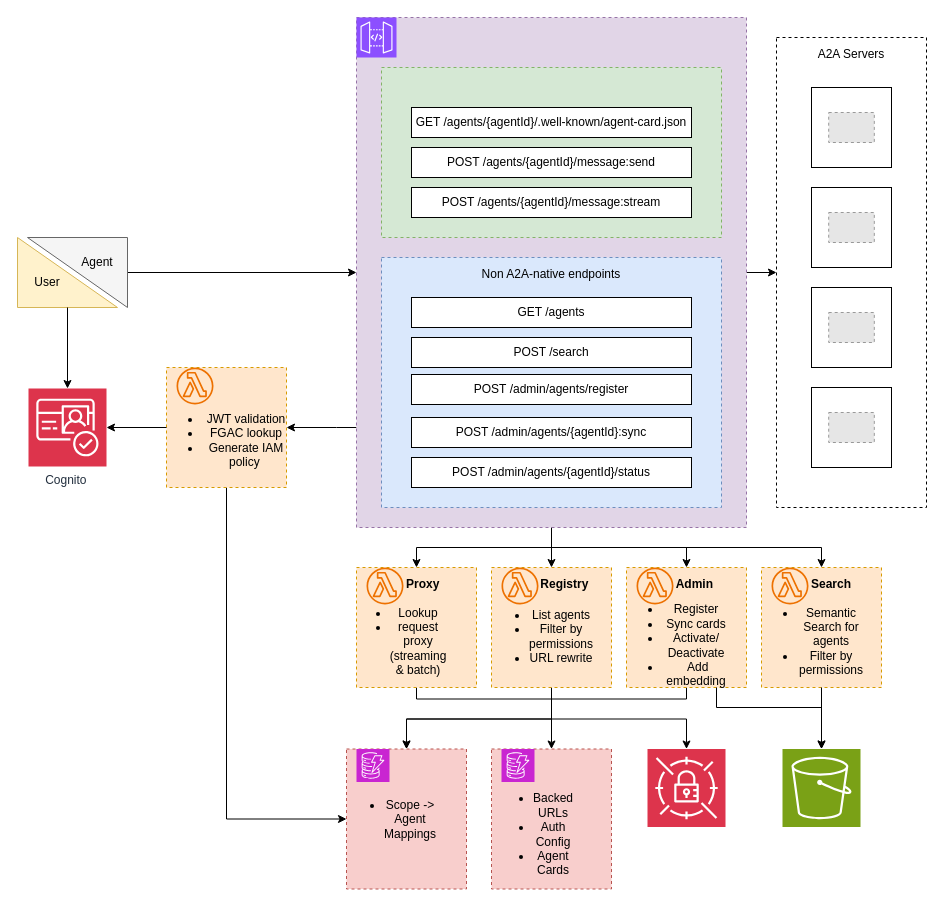
Some shapes in this 944 by 907 pixel diagram are drawn without their labels. Grey dashed boxes stand in for pictures. The box of each missing label's shape, as (x1, y1, x2, y2) in pixels:
A2A Gateway (API Gateway): (356, 16, 746, 528)
A2A Native Endpoints: (380, 66, 722, 238)
Agent Registry: (490, 748, 612, 889)
Authorizer: (166, 366, 286, 488)
Permissions Mapping: (346, 748, 466, 889)
S3 Vectors: (782, 748, 860, 827)
Secrets Manager (Cred Store): (646, 748, 726, 827)
